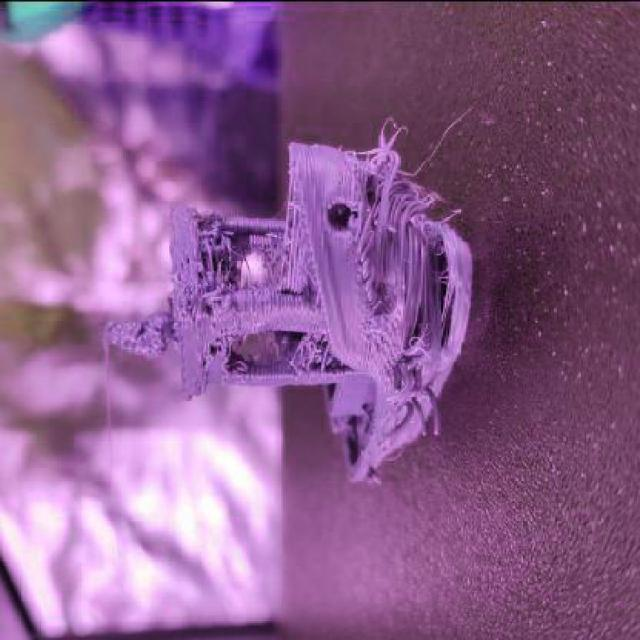spaghetti: (343, 106, 479, 392), (101, 197, 247, 397)
